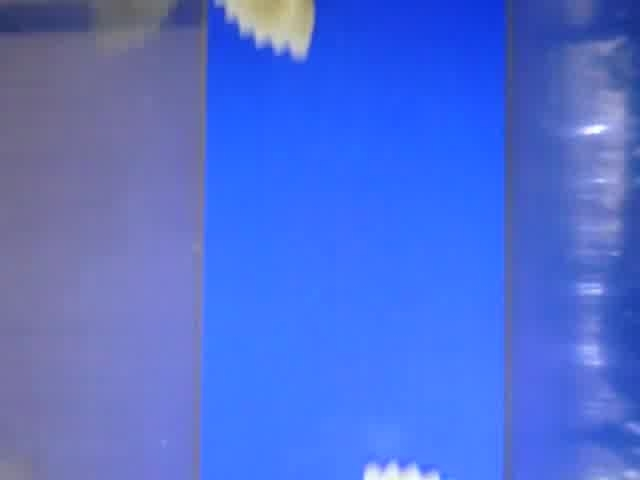farfalle: (213, 1, 319, 62), (362, 461, 448, 480)
